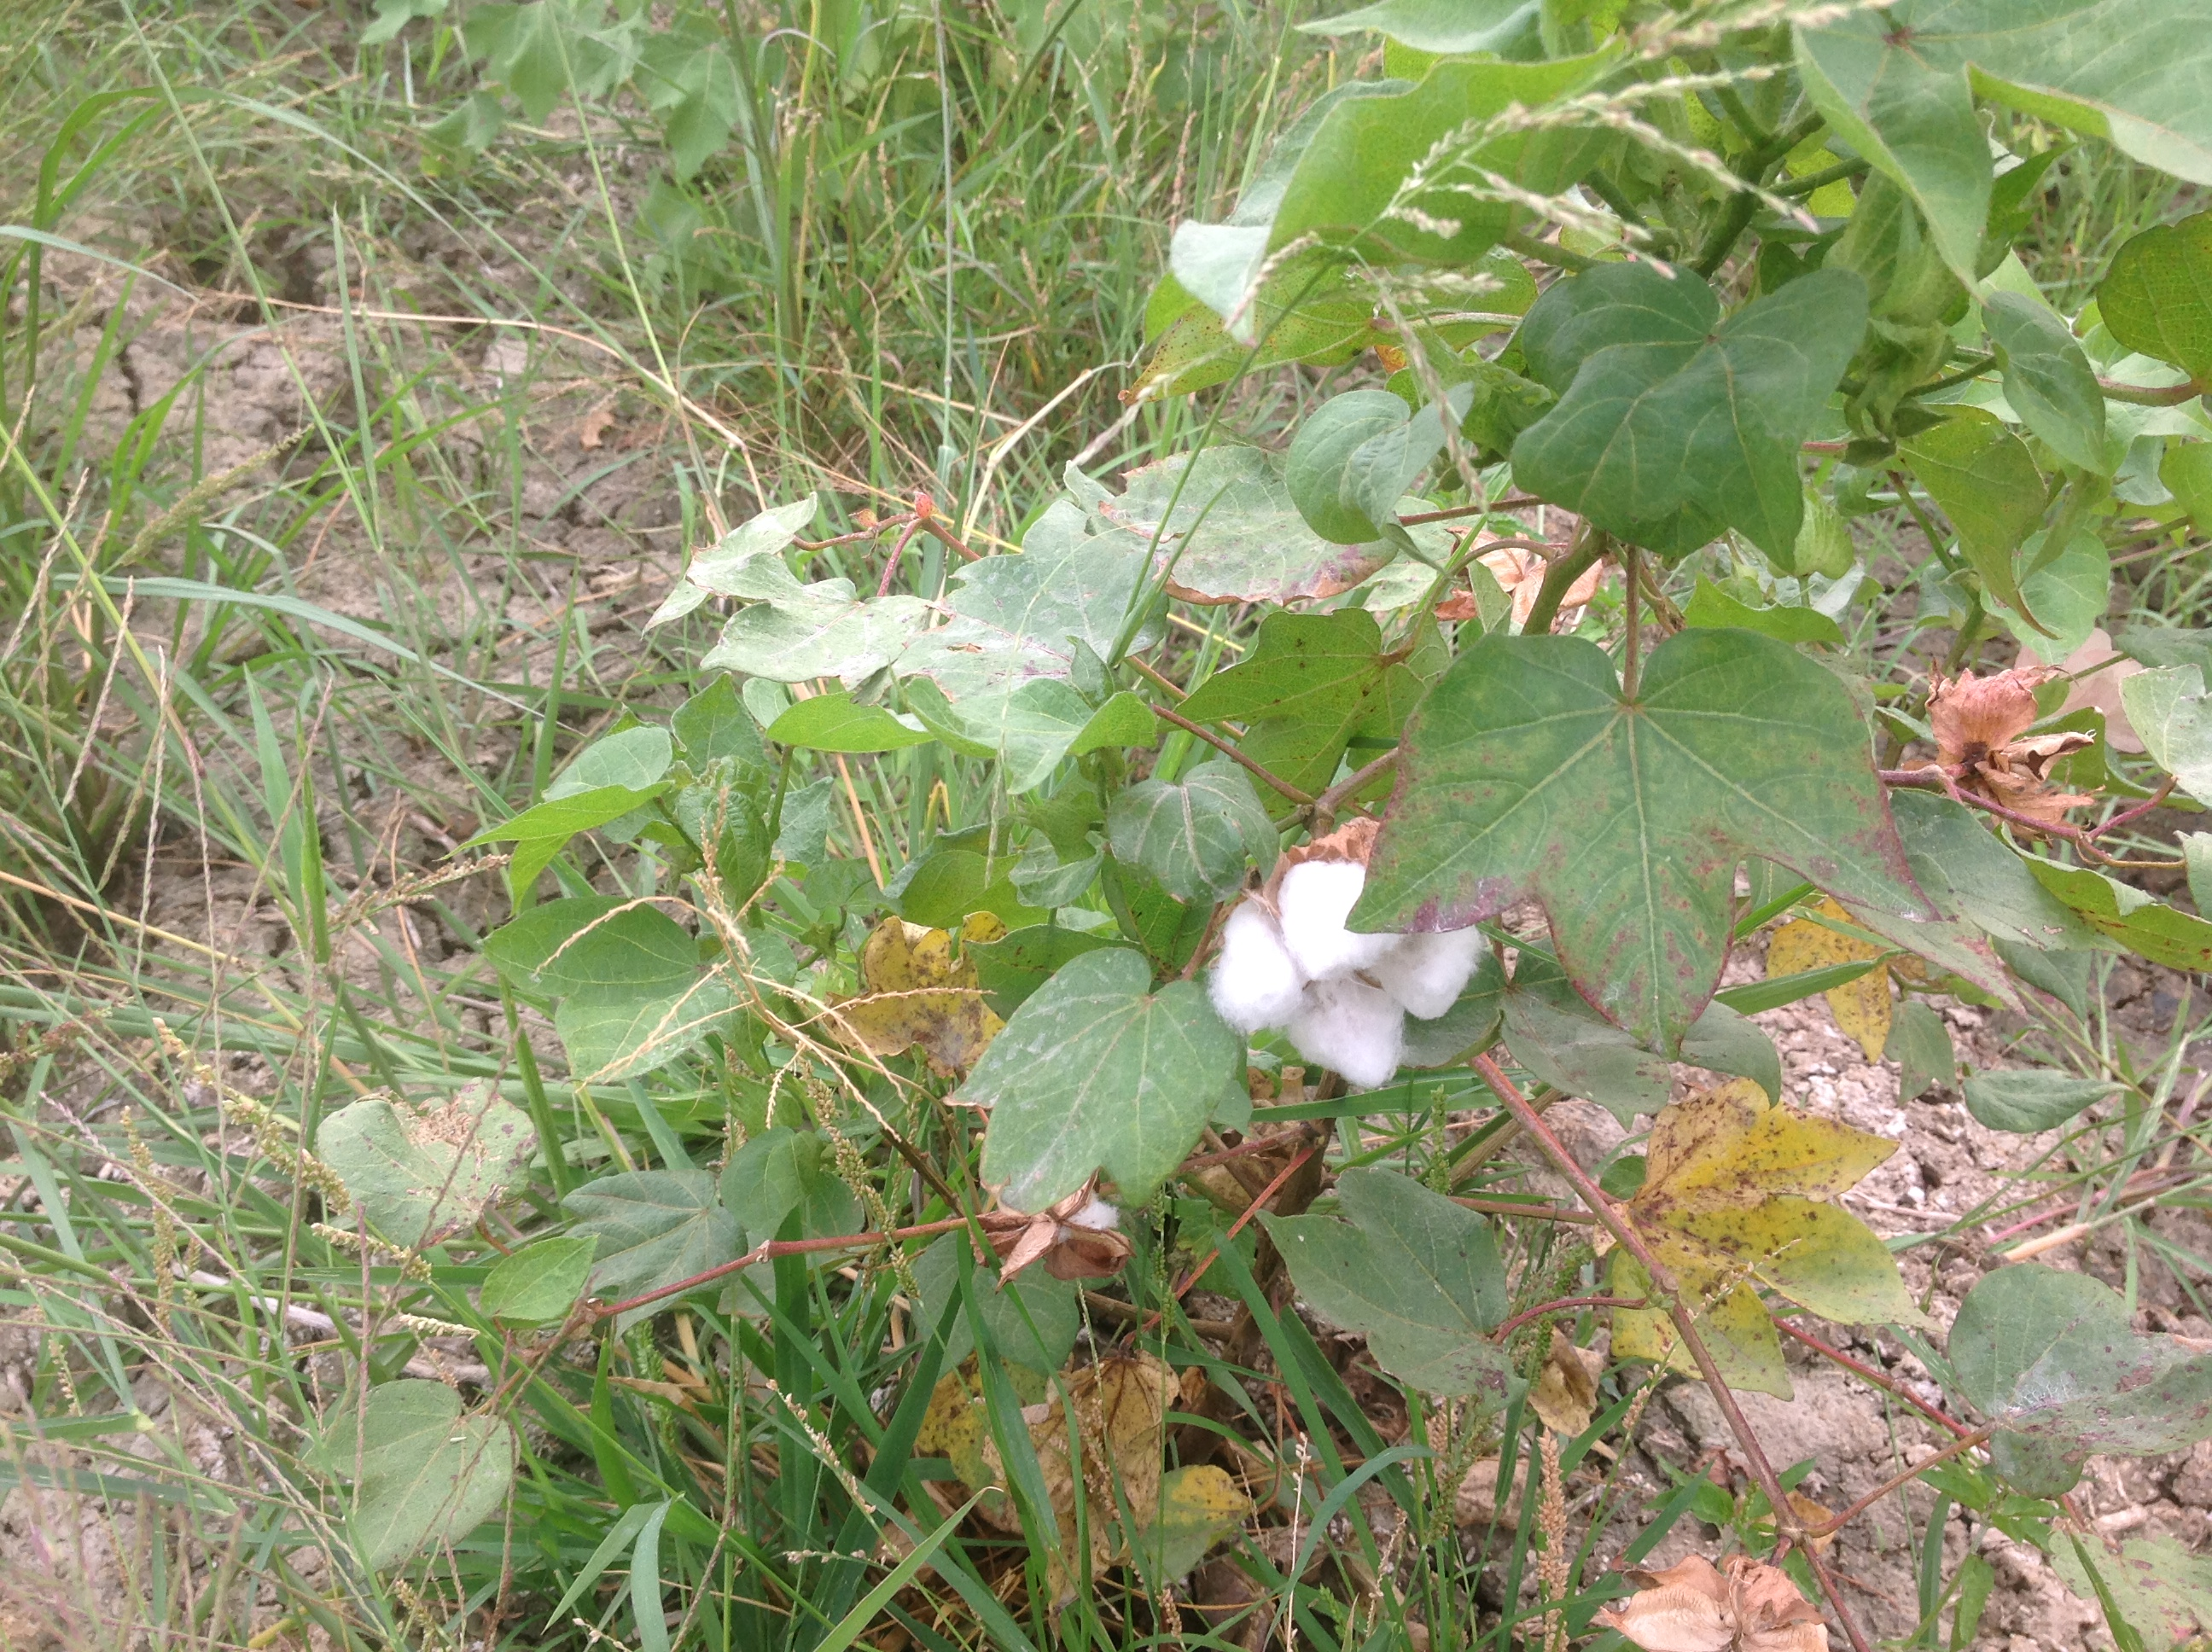cotton: (1211, 842, 1490, 1093), (977, 1157, 1147, 1289)
